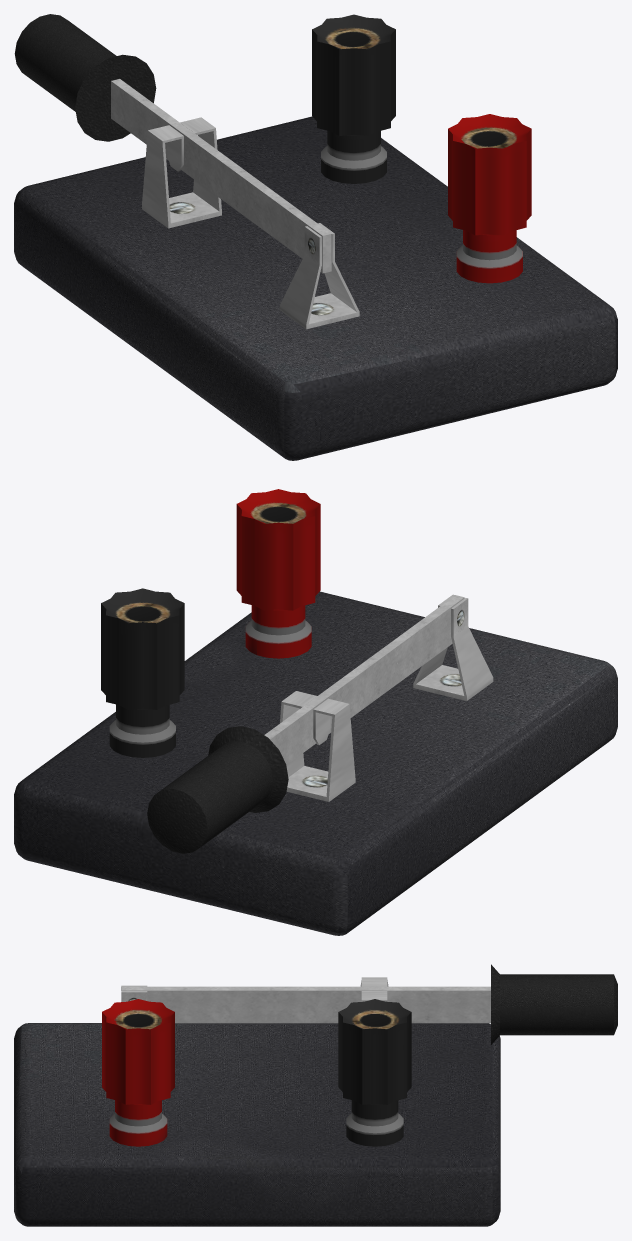
Rendered from Electro05_2.FBX.
3 renders of one model, top to bottom at view 1: azimuth 30°, elevation 25°; view 2: azimuth 150°, elevation 25°; view 3: azimuth 270°, elevation 25°, orthographic. The views are drawn at different scales.
Visible parts, largest first — view 1: Electro05_2; view 2: Electro05_2; view 3: Electro05_2.
Part boxes in pixels (x1,y1,x2,y2): Electro05_2: (14,14,617,460); Electro05_2: (14,489,617,935); Electro05_2: (14,964,617,1226).
Size of the model in its own units: 25.66 by 15.86 by 45.59.
